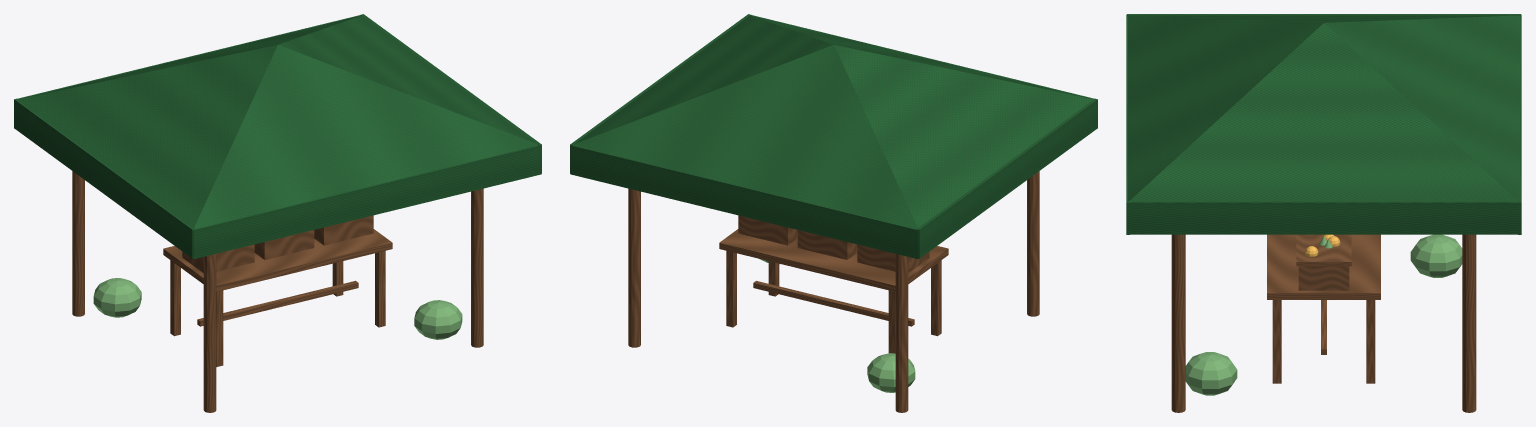
Rendered from tenda-hijau-blender-v1.glb.
3 renders of one model, left to right at view 1: azimuth 30°, elevation 25°; view 2: azimuth 150°, elevation 25°; view 3: azimuth 270°, elevation 25°, orthographic. The views are drawn at different scales.
Visible parts, largest first — view 1: tenda_canvas, tenda_wood, tenda_goods; view 2: tenda_canvas, tenda_wood, tenda_goods; view 3: tenda_canvas, tenda_wood, tenda_goods.
Part boxes in pixels (x1=…): tenda_canvas: x1=14, y1=14, x2=541, y2=259; tenda_wood: x1=72, y1=171, x2=483, y2=412; tenda_goods: x1=93, y1=278, x2=462, y2=339; tenda_canvas: x1=570, y1=14, x2=1097, y2=259; tenda_wood: x1=628, y1=171, x2=1039, y2=412; tenda_goods: x1=760, y1=259, x2=915, y2=392; tenda_canvas: x1=1126, y1=14, x2=1521, y2=234; tenda_wood: x1=1171, y1=234, x2=1476, y2=412; tenda_goods: x1=1185, y1=234, x2=1462, y2=395.
Bounding box in the file's own units: 3.53 × 2.75 × 3.13.
4 materials, 2 textured.
